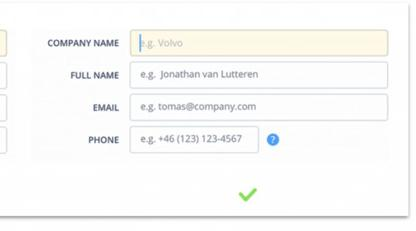field: (125, 59, 388, 89), (126, 92, 389, 122), (128, 28, 388, 58), (128, 124, 261, 156)
